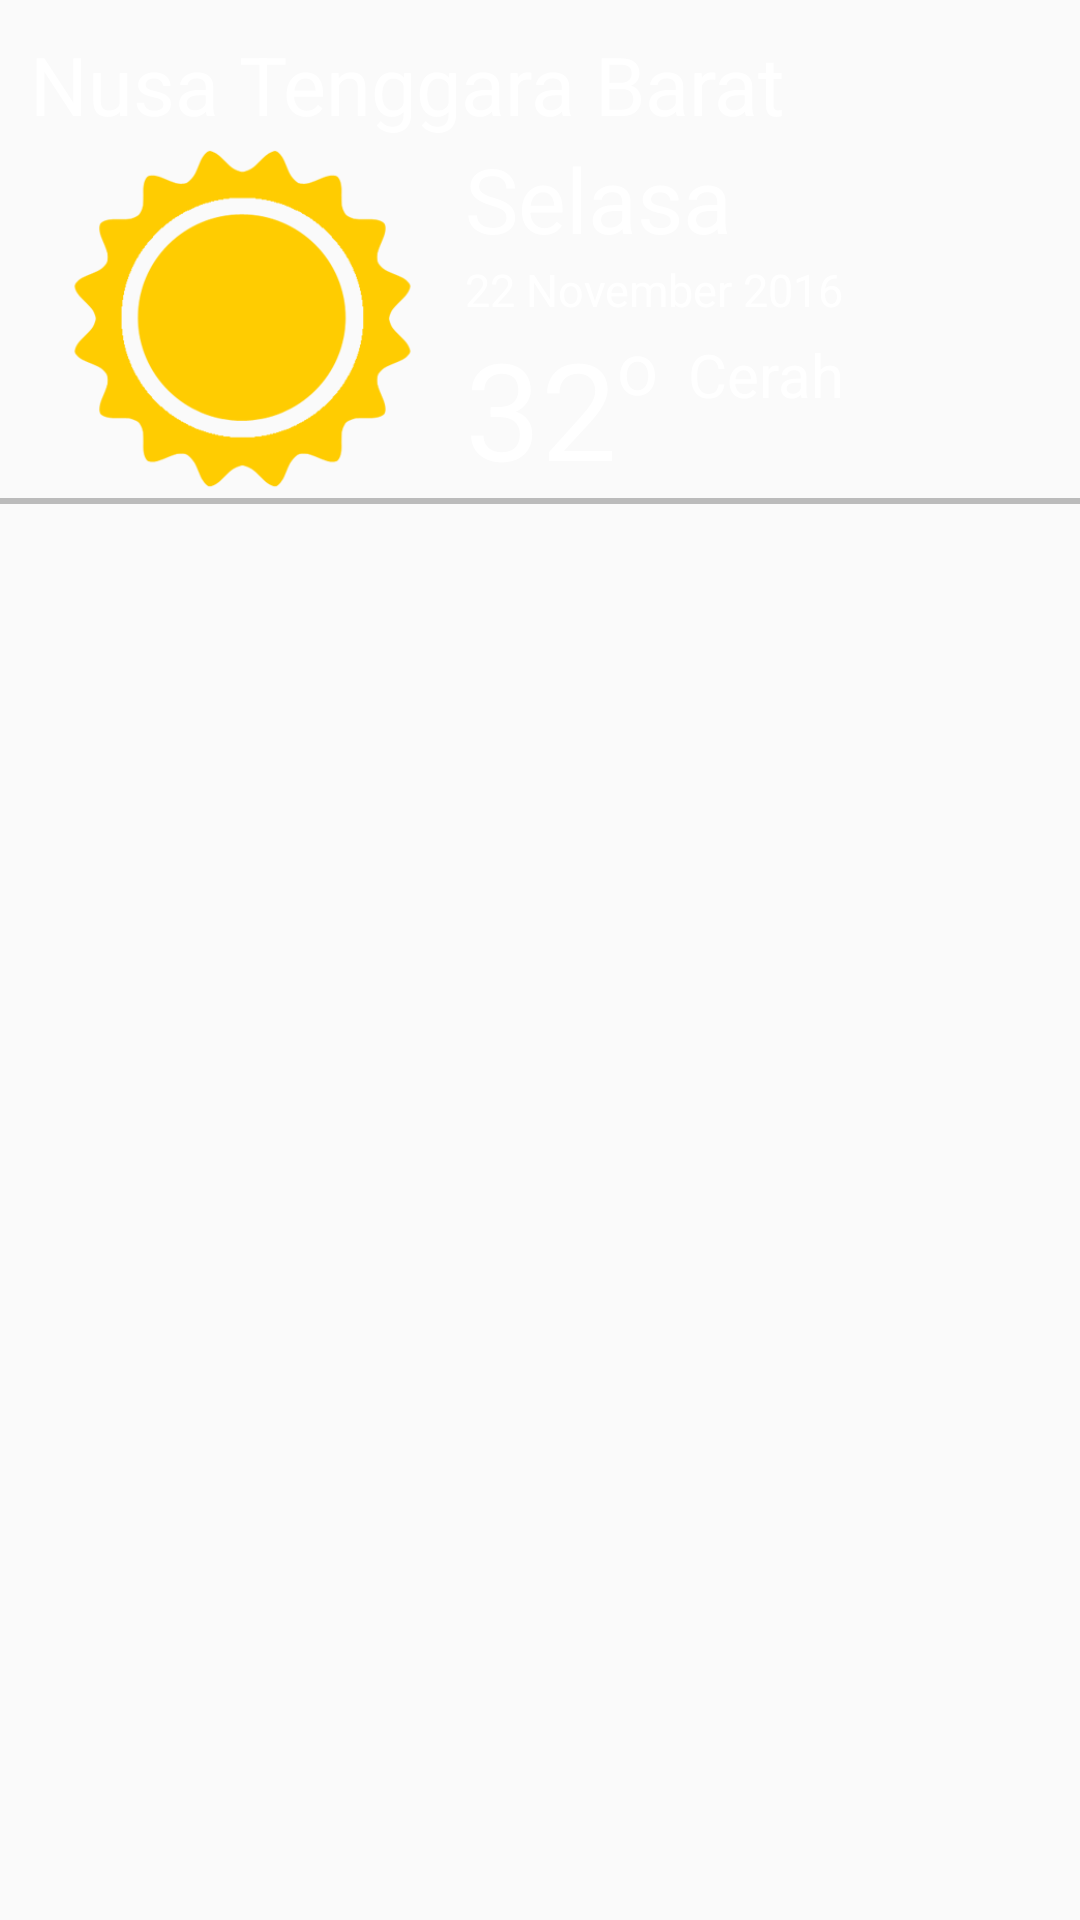

Icon click points for this 1080px x 1920px phone screenshot, format (x=x, y=y):
cerah: (x=242, y=318)
